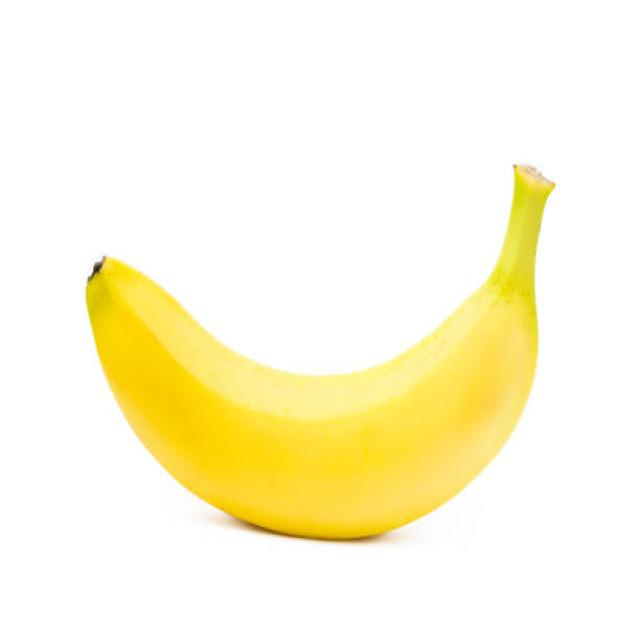banana: (85, 161, 556, 538)
